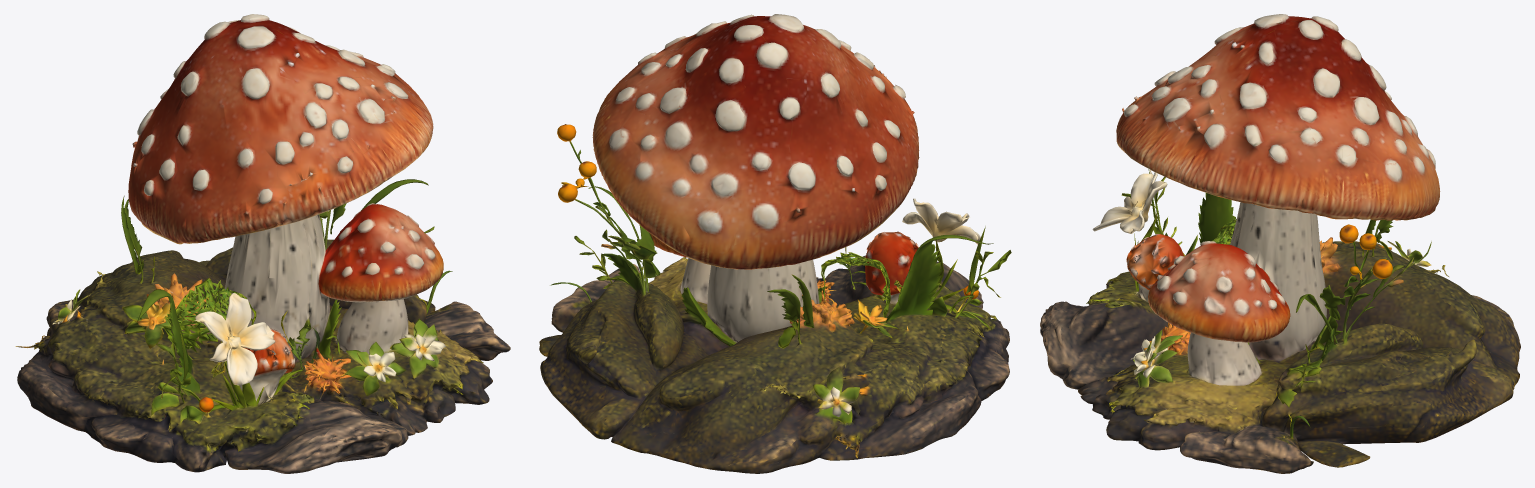
Rendered from fantasy-mushroom.glb.
3 renders of one model, left to right at view 1: azimuth 30°, elevation 25°; view 2: azimuth 150°, elevation 25°; view 3: azimuth 270°, elevation 25°, orthographic.
Bounding box in the file's own units: 0.9183 × 0.7268 × 0.9055.
1 material, 1 textured.
